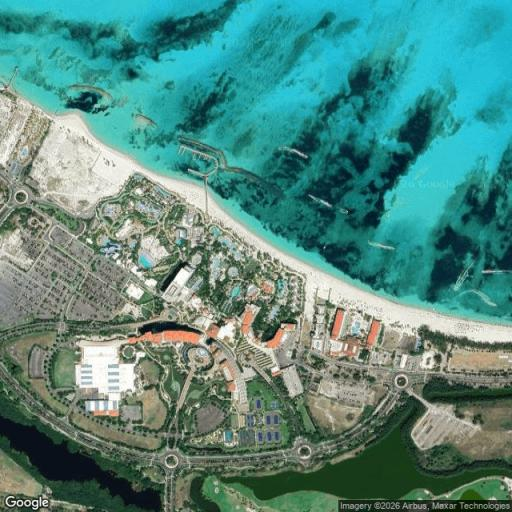ship: (451, 256, 479, 292), (467, 286, 500, 308), (280, 146, 307, 159), (308, 194, 331, 207), (368, 241, 395, 250), (480, 269, 509, 275)
